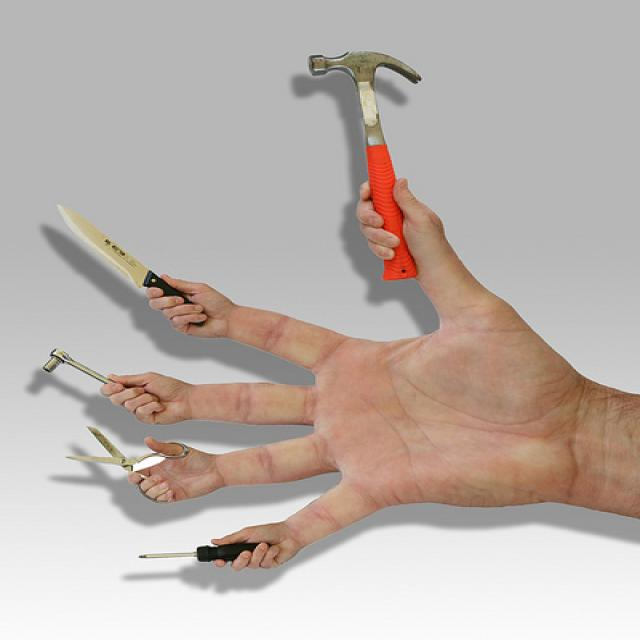hammer: (292, 31, 486, 300)
